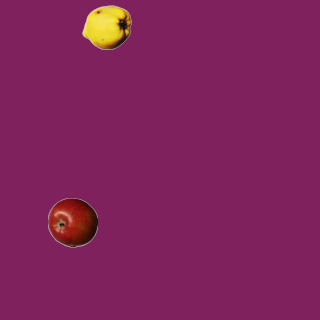Apple Braeburn: (47, 197, 97, 247)
Quince: (81, 2, 131, 52)
